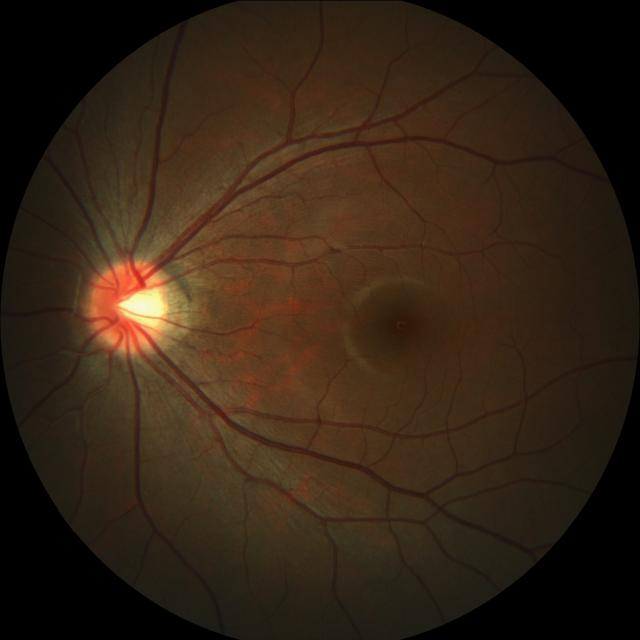OC: (113, 280, 167, 336)
OD: (90, 259, 172, 352)
